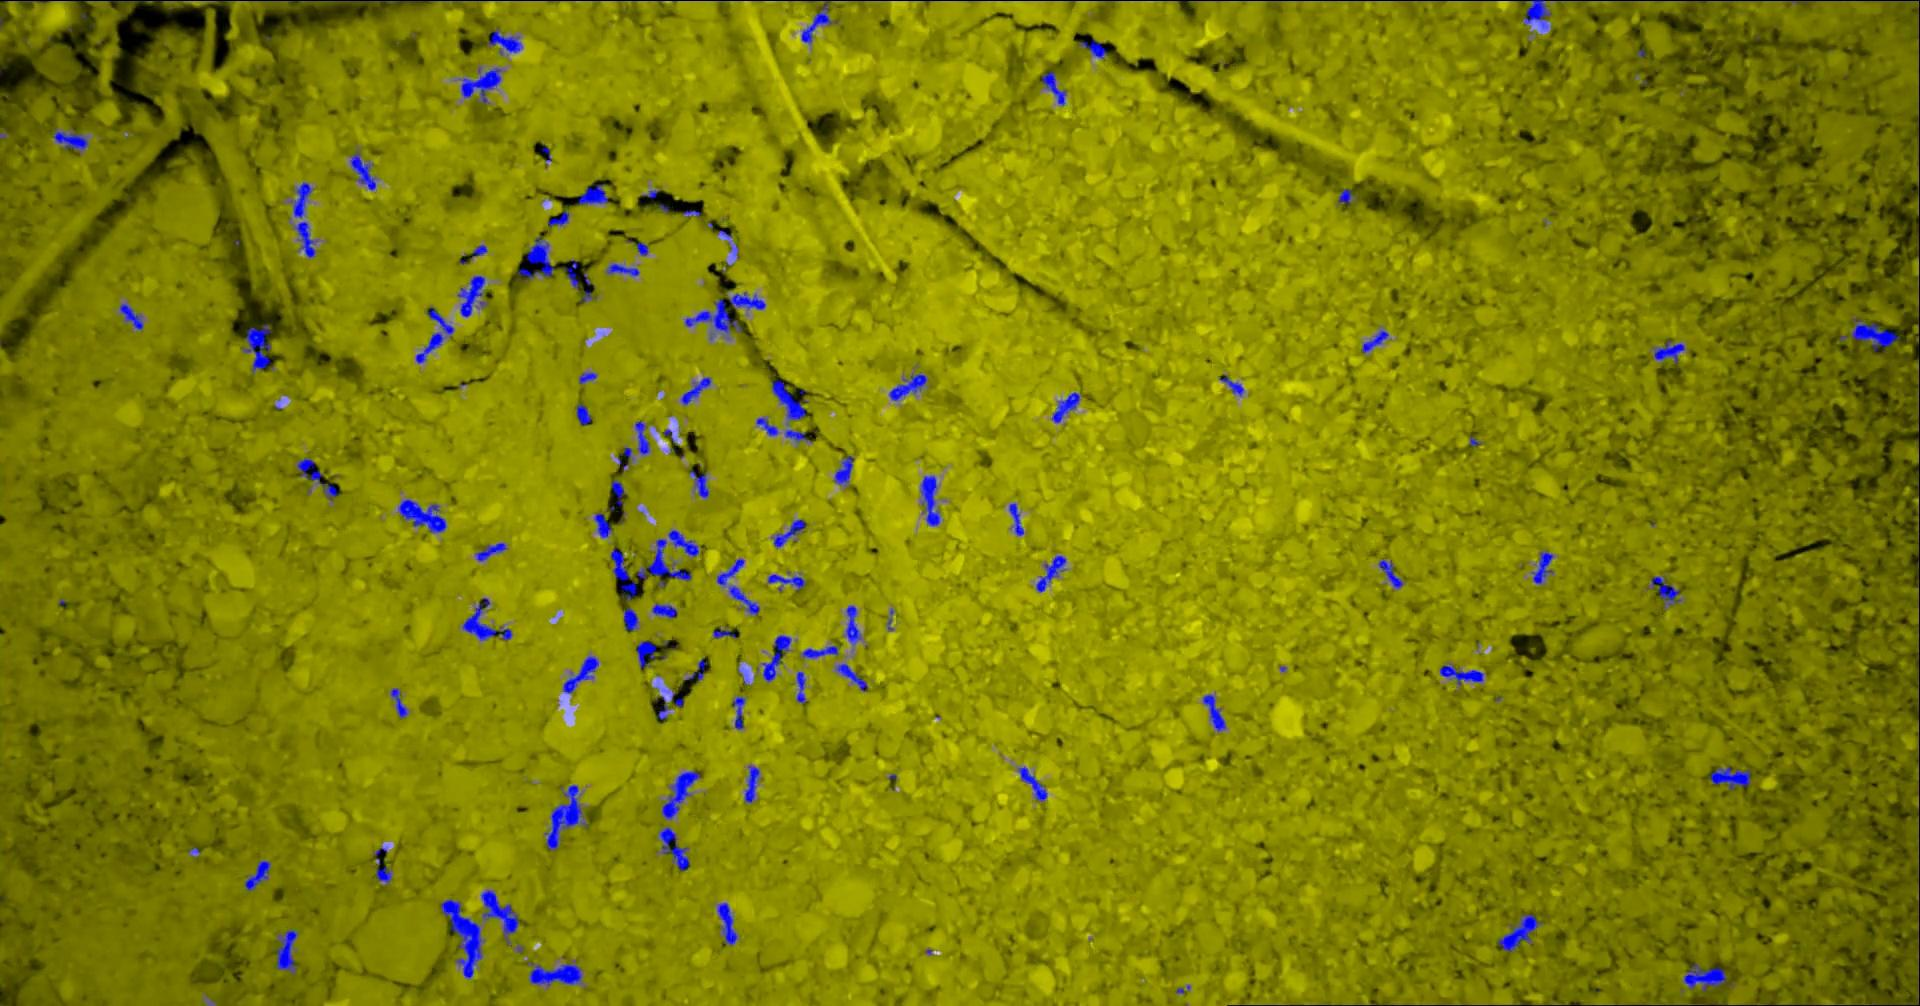ant: (636, 528, 698, 587), (543, 784, 587, 850), (771, 379, 810, 443), (716, 558, 759, 614), (480, 889, 519, 945), (415, 306, 453, 363), (461, 597, 510, 640), (1865, 0, 1919, 39), (1839, 316, 1900, 351), (684, 298, 742, 334), (662, 770, 700, 819), (296, 457, 337, 500), (1496, 915, 1543, 951), (397, 498, 446, 532), (801, 0, 837, 44), (243, 323, 273, 373), (458, 67, 502, 103), (517, 238, 552, 281), (610, 547, 636, 601), (1683, 963, 1733, 991), (658, 826, 690, 870), (762, 634, 791, 681), (563, 655, 598, 694), (456, 276, 488, 316), (527, 962, 582, 984), (1035, 555, 1065, 592), (888, 372, 926, 400), (1650, 575, 1681, 608), (1017, 766, 1048, 800), (919, 475, 940, 526), (276, 929, 297, 974), (350, 150, 375, 191), (1516, 0, 1550, 28), (488, 27, 522, 55), (771, 520, 805, 547), (1709, 766, 1750, 789), (1050, 391, 1079, 422), (636, 639, 667, 668), (836, 663, 867, 691), (1040, 71, 1065, 105), (52, 127, 88, 151), (293, 221, 317, 257), (681, 376, 711, 404), (243, 860, 270, 890), (1439, 664, 1483, 683), (1203, 694, 1225, 730), (717, 902, 737, 945), (1652, 339, 1684, 363), (292, 180, 312, 217), (1531, 550, 1553, 583), (1378, 559, 1402, 588), (728, 291, 764, 310), (577, 183, 608, 205), (767, 573, 805, 591), (844, 605, 861, 644), (833, 455, 853, 485), (119, 304, 143, 329), (1361, 329, 1388, 352), (373, 847, 391, 882), (475, 542, 505, 561), (1078, 38, 1106, 58), (744, 765, 759, 801), (1219, 373, 1243, 396), (688, 470, 709, 497), (390, 687, 408, 718), (634, 420, 649, 453), (1008, 503, 1023, 535), (801, 645, 838, 658), (563, 259, 578, 290), (731, 696, 745, 729), (593, 512, 611, 537), (604, 263, 639, 276), (582, 272, 596, 302), (684, 659, 705, 680), (756, 417, 778, 434), (610, 479, 625, 506), (651, 603, 677, 619), (796, 671, 808, 702), (547, 210, 568, 226), (575, 403, 590, 424), (623, 607, 637, 630), (1337, 188, 1356, 205), (657, 695, 669, 719), (470, 244, 488, 258), (712, 627, 737, 638), (257, 0, 434, 1), (578, 371, 596, 384), (635, 241, 648, 255), (1917, 948, 1919, 1005), (107, 0, 163, 1)
